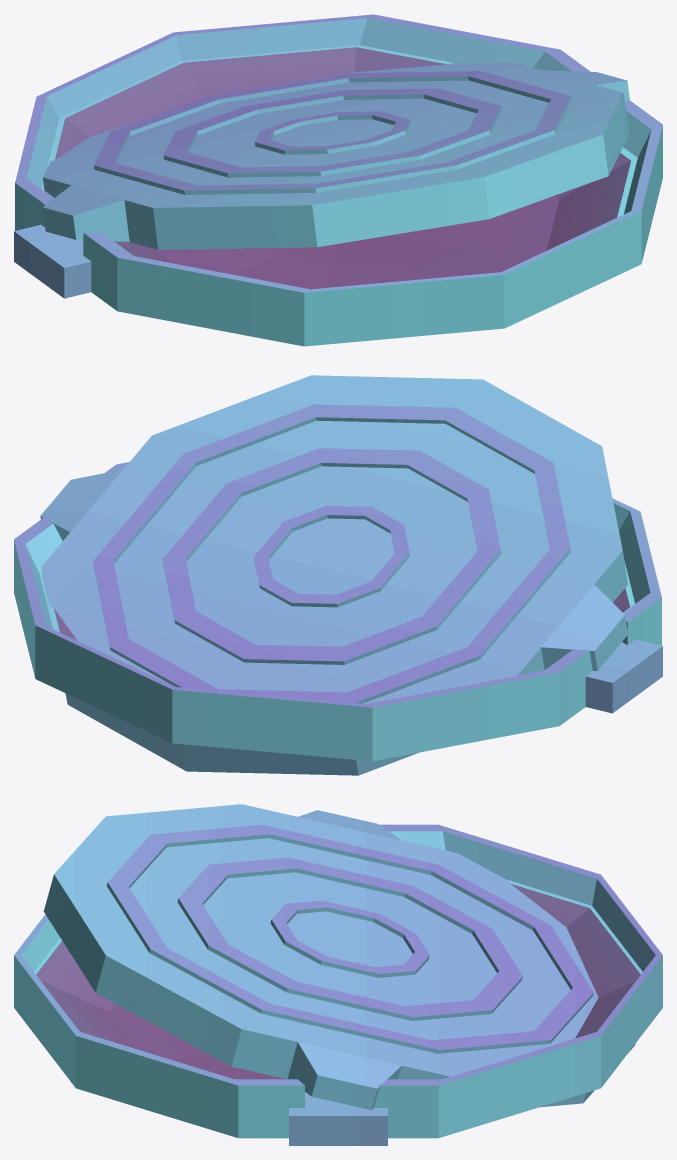
Rendered from manhole003.obj.
The picture shows the model from 3 angles, top to bottom: view 1: azimuth 30°, elevation 25°; view 2: azimuth 150°, elevation 25°; view 3: azimuth 270°, elevation 25°; orthographic projection. The views are drawn at different scales.
Visible parts, largest first — view 1: Manhole.003; view 2: Manhole.003; view 3: Manhole.003.
Boxes of the visible parts, x1,y1,x2,y2 form: Manhole.003: [14, 14, 662, 346]; Manhole.003: [14, 375, 662, 775]; Manhole.003: [14, 804, 662, 1145].
Size of the model in its own units: 3.61 by 1.02 by 3.51.
Materials: 1 (1 with a texture image).
